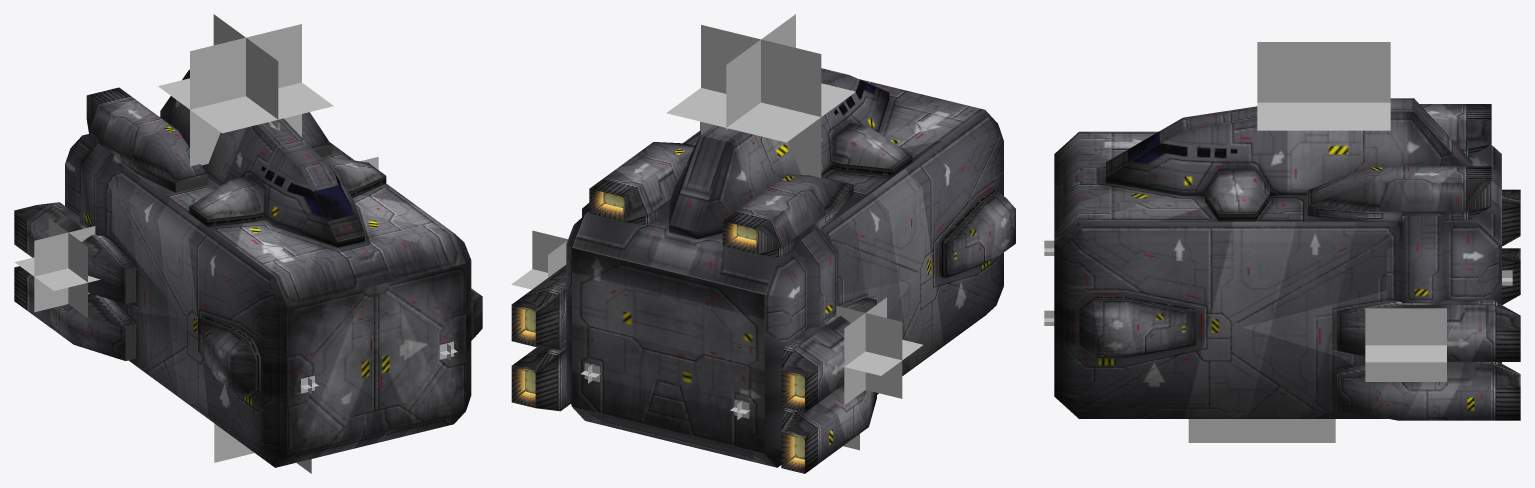
Rendered from plowshare.obj.
3 renders of one model, left to right at view 1: azimuth 30°, elevation 25°; view 2: azimuth 150°, elevation 25°; view 3: azimuth 270°, elevation 25°, orthographic. The views are drawn at different scales.
Size of the model in its own units: 35.06 by 37.82 by 40.76.
